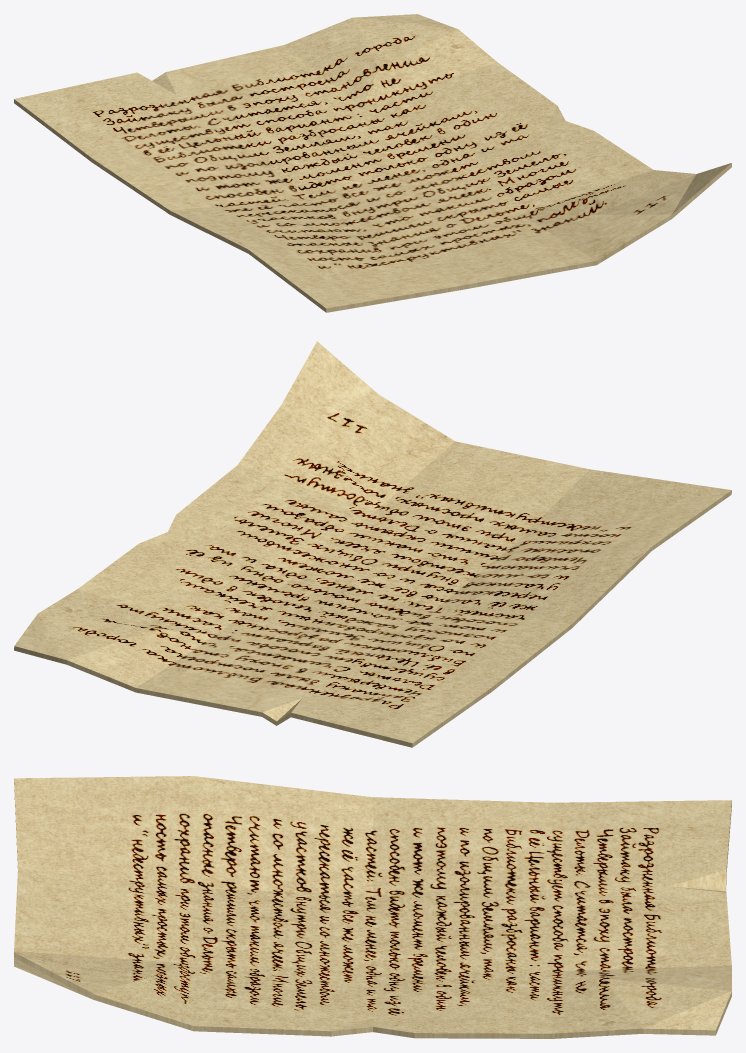
File: Library Book (a) v0-0.fbx
3 renders of one model, top to bottom at view 1: azimuth 30°, elevation 25°; view 2: azimuth 150°, elevation 25°; view 3: azimuth 270°, elevation 25°, orthographic. The views are drawn at different scales.
Parts seen in each view (by area): view 1: Plane; view 2: Plane; view 3: Plane.
Part boxes in pixels (<box>): Plane: <box>14,14,731,312</box>; Plane: <box>14,341,731,747</box>; Plane: <box>14,776,731,1038</box>.
Bounding box in the file's own units: 45.12 × 9.27 × 60.14.
